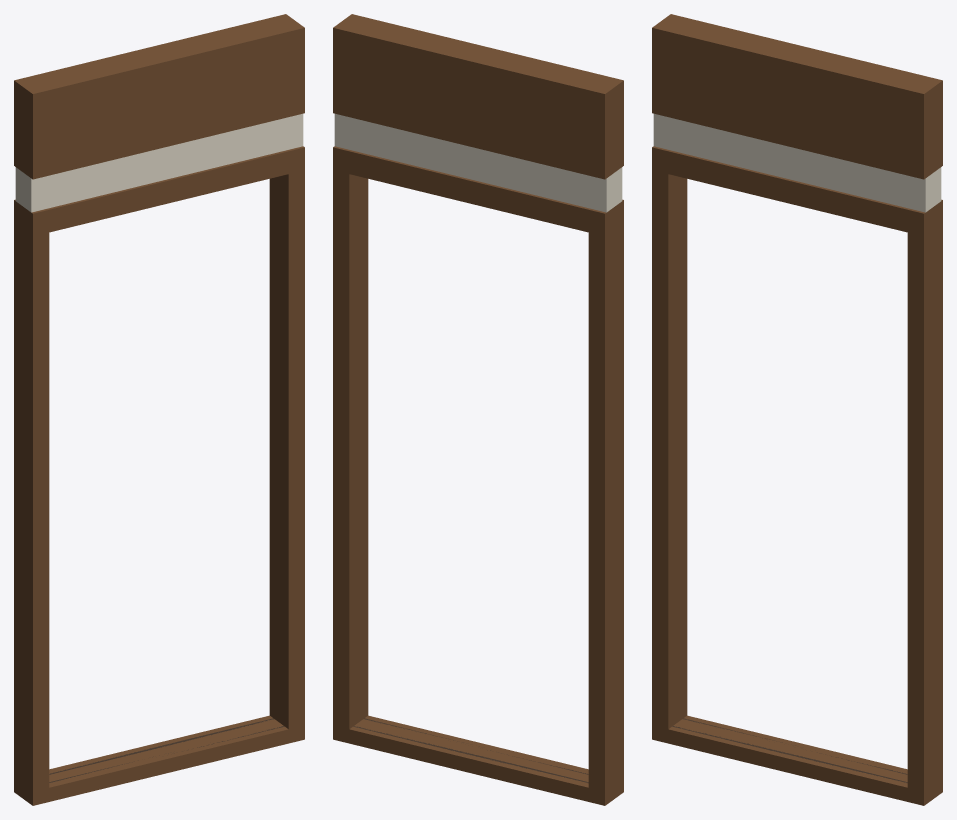
Rendered from sakura_door_shoji_1m_open.glb.
3 views of the same model, side by side, from view 1: azimuth 30°, elevation 25°; view 2: azimuth 150°, elevation 25°; view 3: azimuth 330°, elevation 25° (orthographic).
Parts seen in each view (by area): view 1: sakura_door_shoji_1m_open; view 2: sakura_door_shoji_1m_open; view 3: sakura_door_shoji_1m_open.
Boxes of the visible parts, x1=… form: sakura_door_shoji_1m_open: x1=14, y1=14, x2=304, y2=805; sakura_door_shoji_1m_open: x1=333, y1=14, x2=623, y2=805; sakura_door_shoji_1m_open: x1=652, y1=14, x2=942, y2=805.
Bounding box in the file's own units: 1 × 2.5 × 0.12.
Materials: 1 (1 with a texture image).
